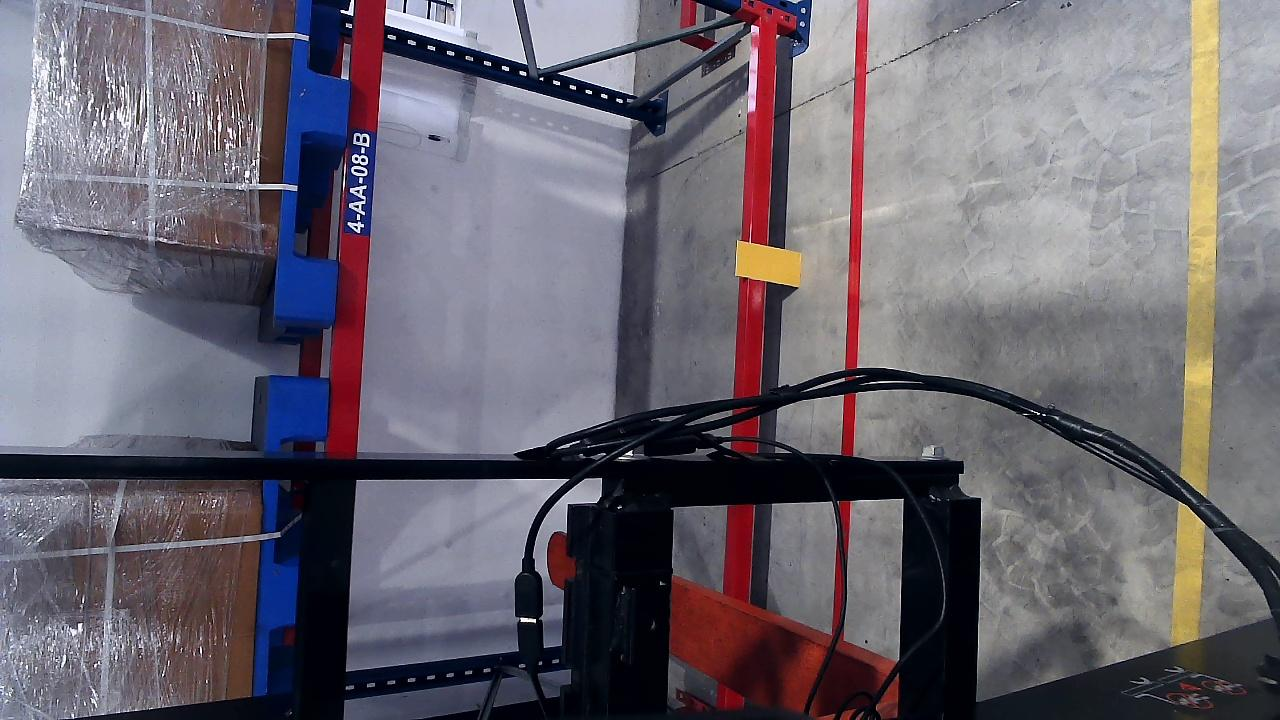h_rack: (324, 0, 392, 454), (735, 12, 780, 397)
orange_strip: (735, 241, 801, 287)
red_line: (843, 3, 868, 369)
small_pallet: (270, 0, 367, 317), (249, 375, 332, 693)
yellow_line: (1176, 3, 1222, 628)
